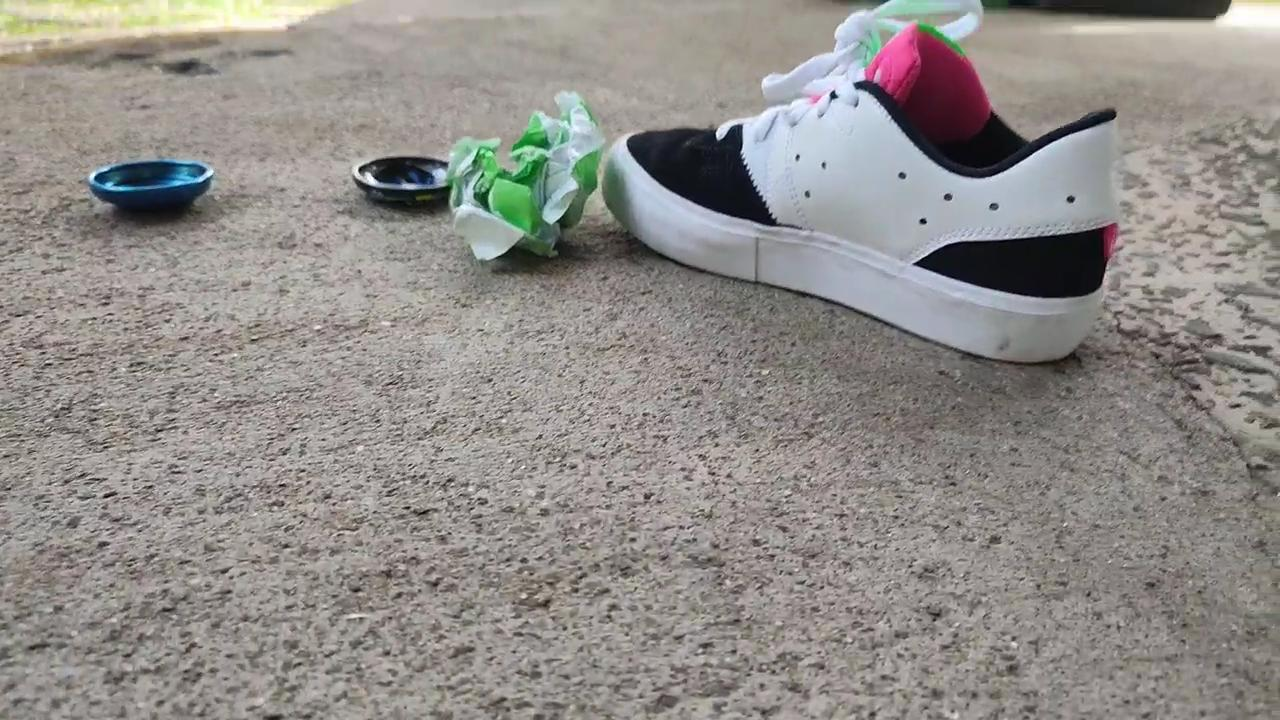Paper: (431, 72, 607, 282)
